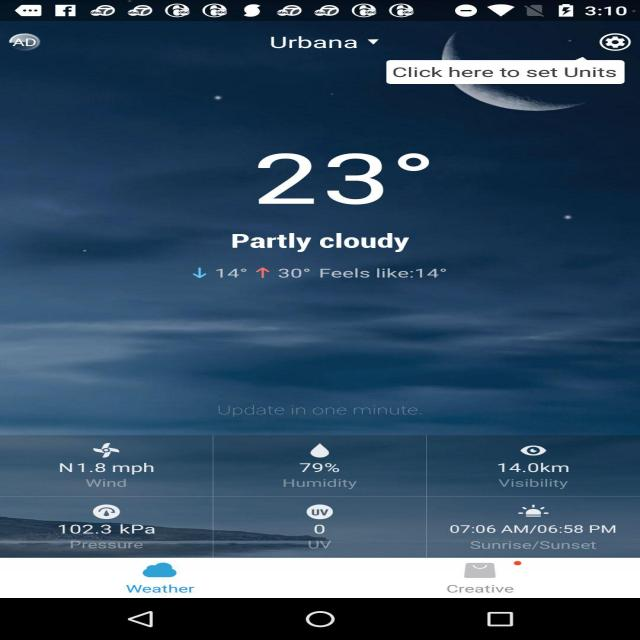text: (57, 424, 640, 570), (243, 130, 522, 286)
